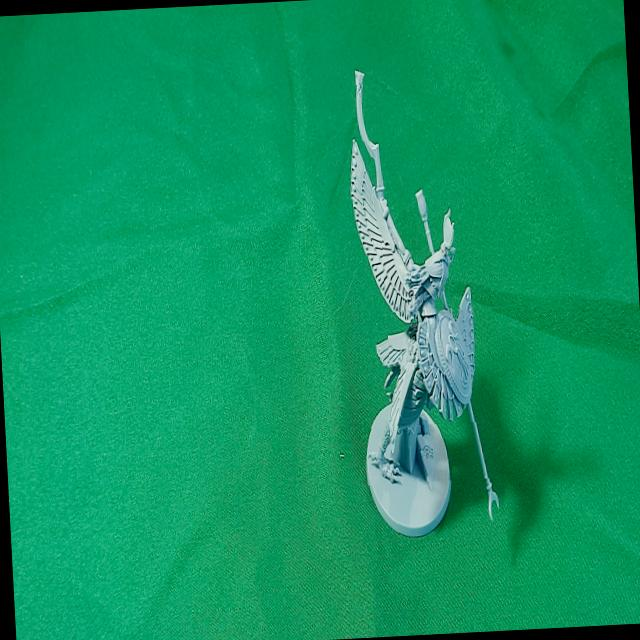isis: (322, 59, 506, 562)
